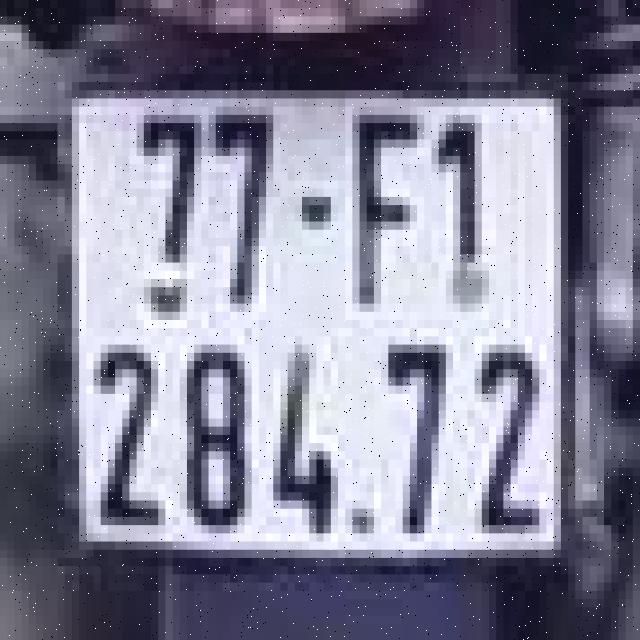1: (428, 99, 507, 304)
2: (86, 332, 173, 546), (471, 344, 543, 542)
4: (262, 336, 349, 550)
7: (360, 332, 460, 546), (122, 99, 202, 328), (202, 98, 280, 320)
8: (165, 336, 259, 542)
F: (338, 98, 431, 312)
